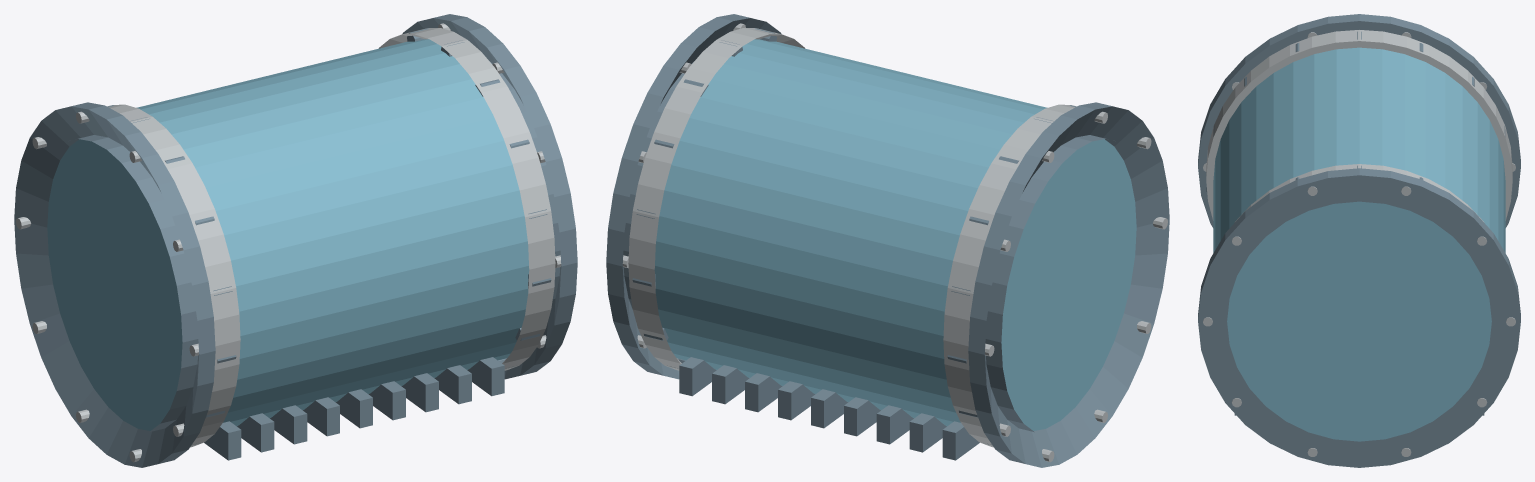
File: 30_L75_VacuumWaferLoadLock.glb
3 renders of one model, left to right at view 1: azimuth 30°, elevation 25°; view 2: azimuth 150°, elevation 25°; view 3: azimuth 270°, elevation 25°, orthographic. The views are drawn at different scales.
Visible parts, largest first — view 1: VacuumWaferLoadLock_Node_0000, VacuumWaferLoadLock_Node_0033, VacuumWaferLoadLock_Node_0002, VacuumWaferLoadLock_Node_0044, VacuumWaferLoadLock_Node_0001, VacuumWaferLoadLock_Node_0056, VacuumWaferLoadLock_Node_0057, VacuumWaferLoadLock_Node_0063, VacuumWaferLoadLock_Node_0062, VacuumWaferLoadLock_Node_0061, VacuumWaferLoadLock_Node_0060, VacuumWaferLoadLock_Node_0059 (+2 smaller); view 2: VacuumWaferLoadLock_Node_0000, VacuumWaferLoadLock_Node_0033, VacuumWaferLoadLock_Node_0002, VacuumWaferLoadLock_Node_0044, VacuumWaferLoadLock_Node_0001, VacuumWaferLoadLock_Node_0056, VacuumWaferLoadLock_Node_0057, VacuumWaferLoadLock_Node_0063, VacuumWaferLoadLock_Node_0062, VacuumWaferLoadLock_Node_0061, VacuumWaferLoadLock_Node_0060, VacuumWaferLoadLock_Node_0059 (+2 smaller); view 3: VacuumWaferLoadLock_Node_0000, VacuumWaferLoadLock_Node_0044, VacuumWaferLoadLock_Node_0001, VacuumWaferLoadLock_Node_0033, VacuumWaferLoadLock_Node_0002.
Part boxes in pixels (x1,y1,x2,y2): VacuumWaferLoadLock_Node_0000: [47, 39, 529, 430]; VacuumWaferLoadLock_Node_0033: [14, 102, 215, 467]; VacuumWaferLoadLock_Node_0002: [379, 28, 555, 370]; VacuumWaferLoadLock_Node_0044: [402, 14, 577, 379]; VacuumWaferLoadLock_Node_0001: [107, 104, 240, 447]; VacuumWaferLoadLock_Node_0056: [237, 413, 274, 452]; VacuumWaferLoadLock_Node_0057: [270, 405, 307, 444]; VacuumWaferLoadLock_Node_0063: [467, 357, 504, 396]; VacuumWaferLoadLock_Node_0062: [434, 365, 471, 404]; VacuumWaferLoadLock_Node_0061: [401, 373, 438, 412]; VacuumWaferLoadLock_Node_0060: [368, 381, 405, 420]; VacuumWaferLoadLock_Node_0059: [335, 389, 372, 428]; VacuumWaferLoadLock_Node_0000: [654, 39, 1136, 430]; VacuumWaferLoadLock_Node_0033: [968, 102, 1169, 467]; VacuumWaferLoadLock_Node_0002: [628, 28, 804, 370]; VacuumWaferLoadLock_Node_0044: [606, 14, 781, 379]; VacuumWaferLoadLock_Node_0001: [943, 104, 1076, 447]; VacuumWaferLoadLock_Node_0056: [909, 413, 946, 452]; VacuumWaferLoadLock_Node_0057: [876, 405, 913, 444]; VacuumWaferLoadLock_Node_0063: [679, 357, 716, 396]; VacuumWaferLoadLock_Node_0062: [712, 365, 749, 404]; VacuumWaferLoadLock_Node_0061: [745, 373, 782, 412]; VacuumWaferLoadLock_Node_0060: [778, 381, 815, 420]; VacuumWaferLoadLock_Node_0059: [811, 389, 848, 428]; VacuumWaferLoadLock_Node_0000: [1213, 47, 1505, 441]; VacuumWaferLoadLock_Node_0044: [1198, 168, 1520, 467]; VacuumWaferLoadLock_Node_0001: [1206, 30, 1512, 220]; VacuumWaferLoadLock_Node_0033: [1198, 14, 1520, 227]; VacuumWaferLoadLock_Node_0002: [1234, 164, 1484, 222].
Bounding box in the file's own units: 1.74 × 1.46 × 1.46.
